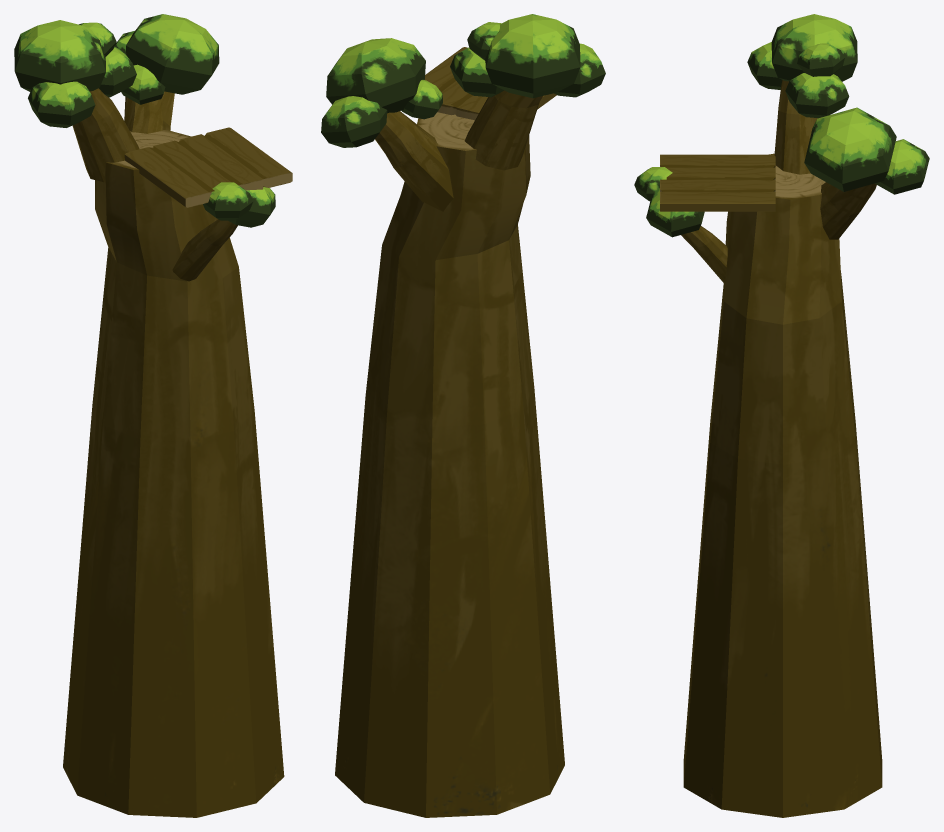
File: platform_mdl.fbx
The picture shows the model from 3 angles, left to right: view 1: azimuth 30°, elevation 25°; view 2: azimuth 150°, elevation 25°; view 3: azimuth 270°, elevation 25°; orthographic projection. The views are drawn at different scales.
Visible parts, largest first — view 1: tree_GEO, leaves_GEO, platform_GEO; view 2: tree_GEO, leaves_GEO, platform_GEO; view 3: tree_GEO, leaves_GEO, platform_GEO.
Part boxes in pixels (bbox=[...]): tree_GEO: bbox=[63, 88, 284, 817]; leaves_GEO: bbox=[14, 14, 275, 227]; platform_GEO: bbox=[124, 127, 292, 207]; tree_GEO: bbox=[335, 90, 564, 817]; leaves_GEO: bbox=[321, 14, 605, 147]; platform_GEO: bbox=[424, 47, 556, 120]; tree_GEO: bbox=[681, 80, 882, 817]; leaves_GEO: bbox=[634, 14, 929, 237]; platform_GEO: bbox=[660, 154, 775, 211].
Size of the model in its own units: 75.15 by 227 by 85.67.
